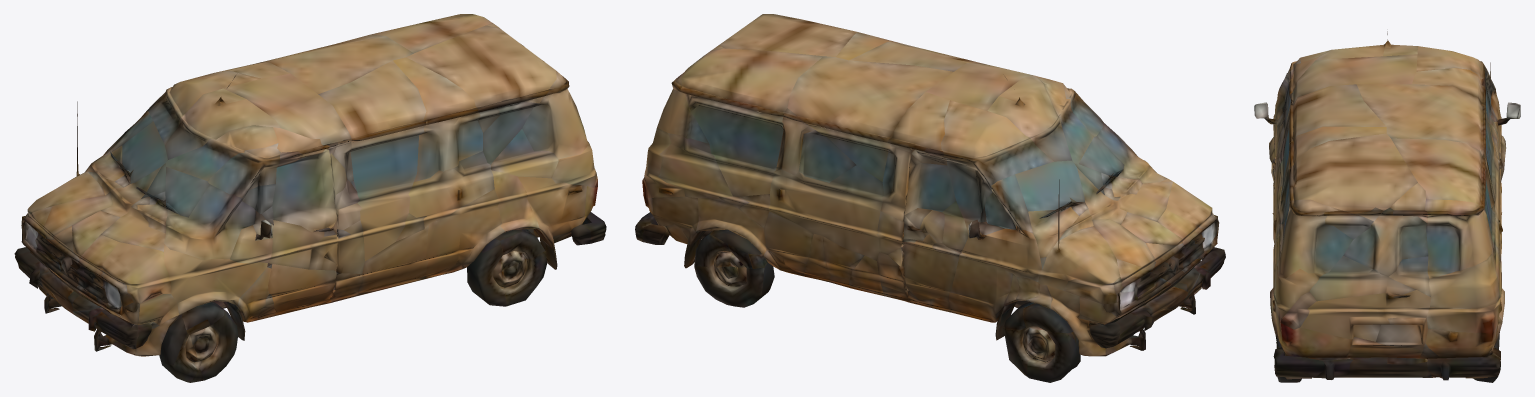
File: car_minivan_light_q2.glb
3 renders of one model, left to right at view 1: azimuth 30°, elevation 25°; view 2: azimuth 150°, elevation 25°; view 3: azimuth 270°, elevation 25°, orthographic.
Bounding box in the file's own units: 3.66 × 1.73 × 1.72.
1 material, 1 textured.
